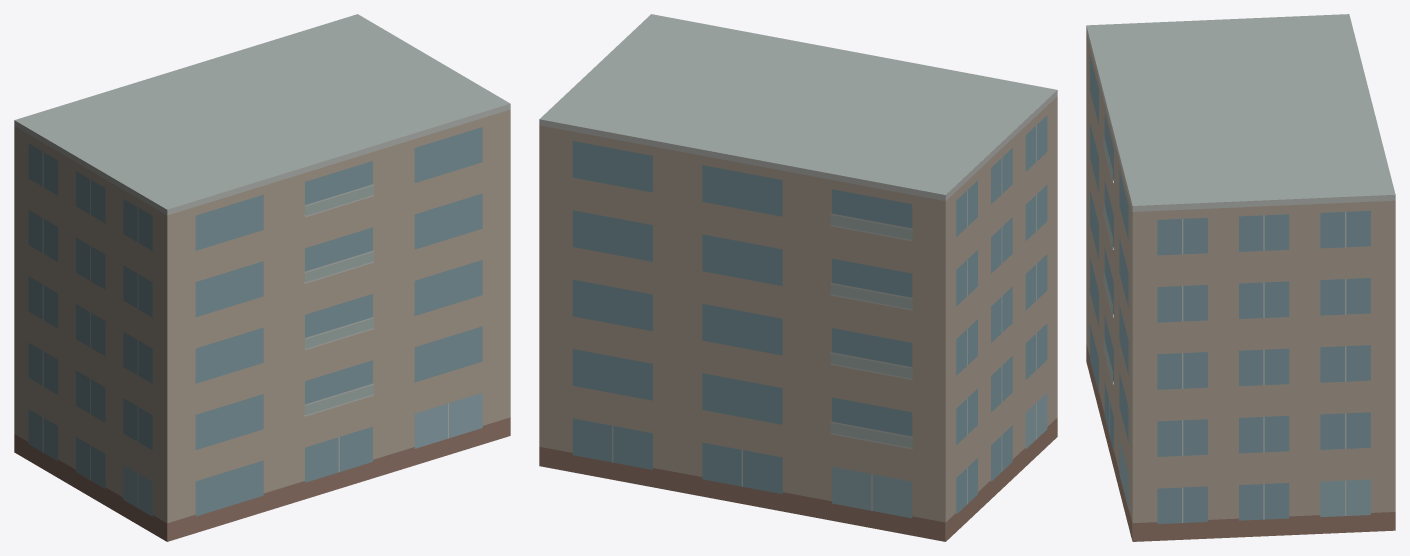
File: survey-upis-33021799.glb
3 views of the same model, side by side, from view 1: azimuth 30°, elevation 25°; view 2: azimuth 150°, elevation 25°; view 3: azimuth 270°, elevation 25° (orthographic). The views are drawn at different scales.
Parts seen in each view (by area): view 1: survey-upis-33021799.tmp; view 2: survey-upis-33021799.tmp; view 3: survey-upis-33021799.tmp.
Boxes of the visible parts, <box> form: survey-upis-33021799.tmp: <box>14,14,510,541</box>; survey-upis-33021799.tmp: <box>539,14,1057,541</box>; survey-upis-33021799.tmp: <box>1086,14,1395,541</box>.
Bounding box in the file's own units: 17.05 × 13.9 × 11.61.
